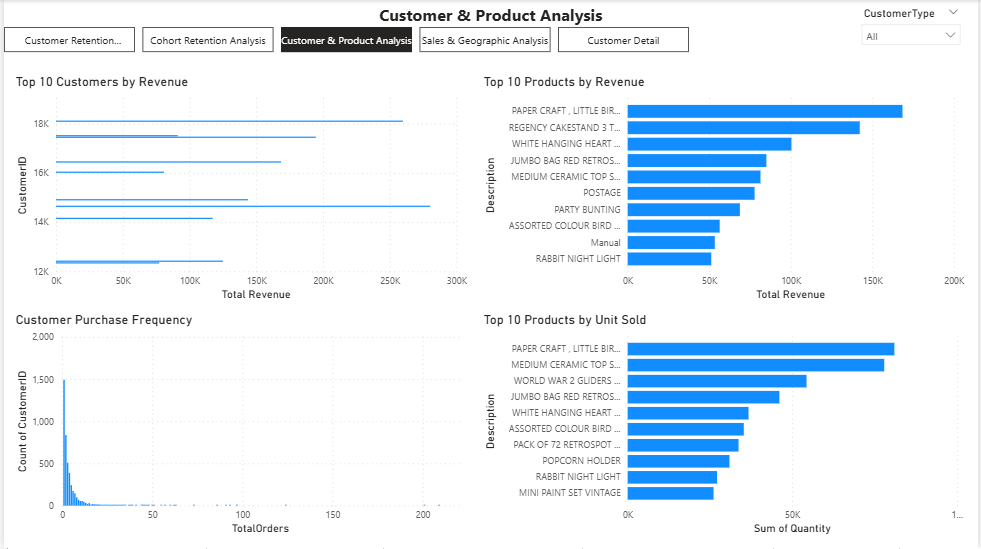

The page's visual inventory and layout, read from the dashboard file:
{"tool":"powerbi","page":{"name":"Customer & Product Analysis","canvas":[1280,720],"ordinal":2},"visuals":[{"type":"barChart","title":"Top 10 Customers by Revenue","fields":{"Y":["All Measures.Total Revenue"],"Category":["customer_retention_powerbi.CustomerID"]},"box":[10.1,97.4,603,302.4],"z":0},{"type":"columnChart","title":"Customer Purchase Frequency","fields":{"Y":["CountNonNull(Customer Summary.CustomerID)"],"Category":["Customer Summary.TotalOrders"]},"box":[10.1,409.9,603,297.3],"z":1000},{"type":"barChart","title":"Top 10 Products by Revenue","fields":{"Y":["All Measures.Total Revenue"],"Category":["customer_retention_powerbi.Description"]},"box":[624.9,97.4,641.7,302.4],"z":2000},{"type":"barChart","title":"Top 10 Products by Unit Sold","fields":{"Category":["customer_retention_powerbi.Description"],"Y":["Sum(customer_retention_powerbi.Quantity)"]},"box":[624.9,409.9,641.7,297.3],"z":3000},{"type":"textbox","box":[28.6,0,1221.2,67.2],"z":4000},{"type":"slicer","fields":{"Values":["customer_retention_powerbi.CustomerType"]},"box":[1117.1,3.4,149.5,63.8],"z":5000},{"type":"pageNavigator","box":[0,35.2,904.7,33.7],"z":6000}]}

Visuals, with their boxes on the page's 1280x720 design canvas (x1, y1, x2, y2). These are canvas units, not pixel positions in the 981x549 screenshot, which may show the page scaled, cropped or inside an application window:
"Top 10 Customers by Revenue" barChart: bbox(10, 97, 613, 400)
"Customer Purchase Frequency" columnChart: bbox(10, 410, 613, 707)
"Top 10 Products by Revenue" barChart: bbox(625, 97, 1267, 400)
"Top 10 Products by Unit Sold" barChart: bbox(625, 410, 1267, 707)
textbox: bbox(29, 0, 1250, 67)
slicer - customer_retention_powerbi.CustomerType: bbox(1117, 3, 1267, 67)
pageNavigator: bbox(0, 35, 905, 69)
